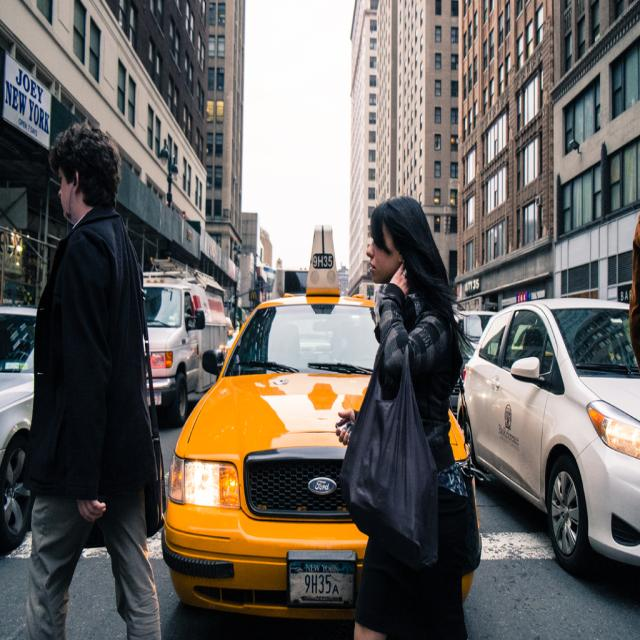car: (160, 219, 482, 631), (457, 293, 638, 578)
